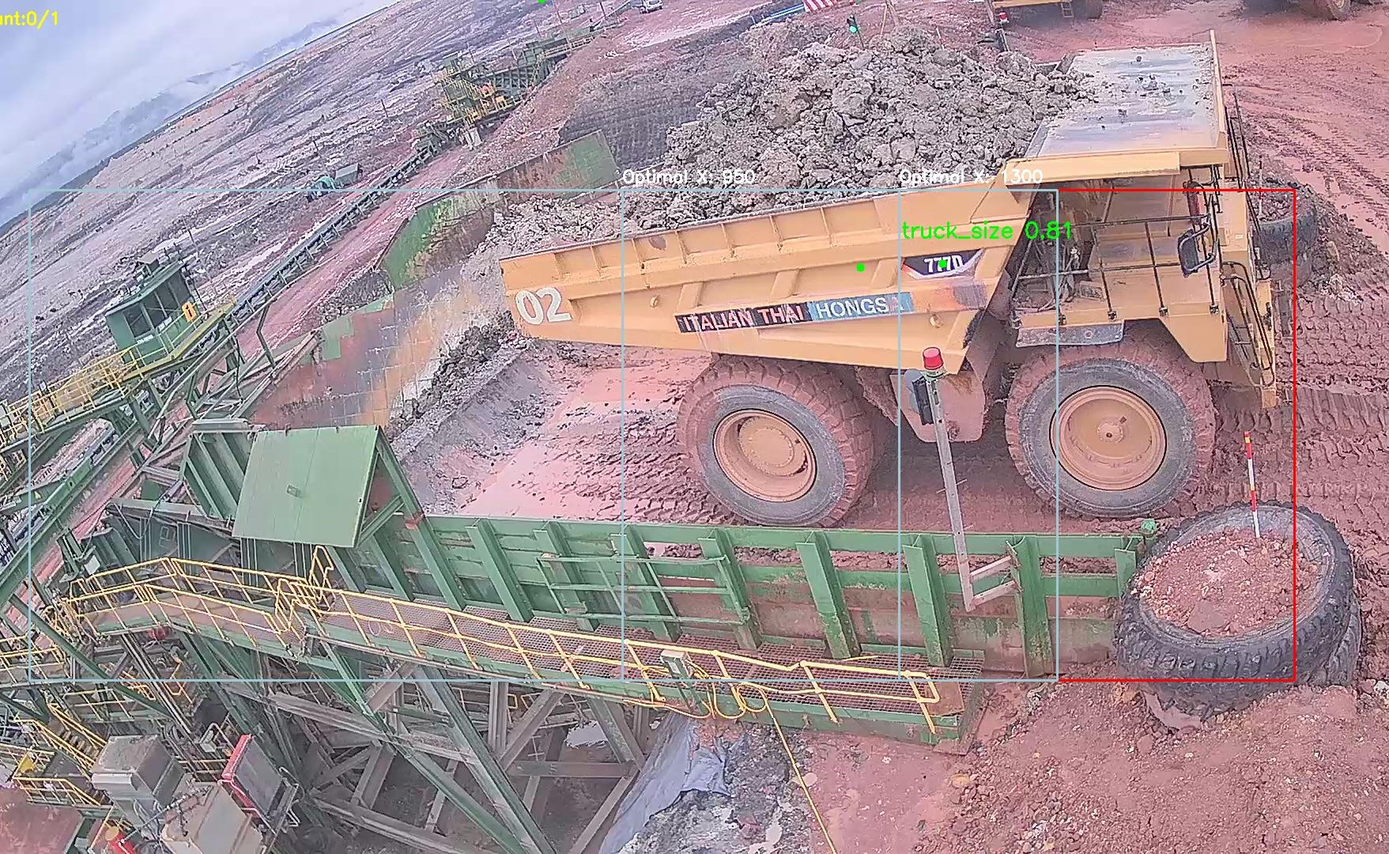company: (672, 282, 915, 339)
full_load: (696, 27, 1012, 220)
mining_truck: (489, 15, 1299, 528)
tail_number: (504, 277, 582, 337)
truck_size: (899, 245, 989, 280)
